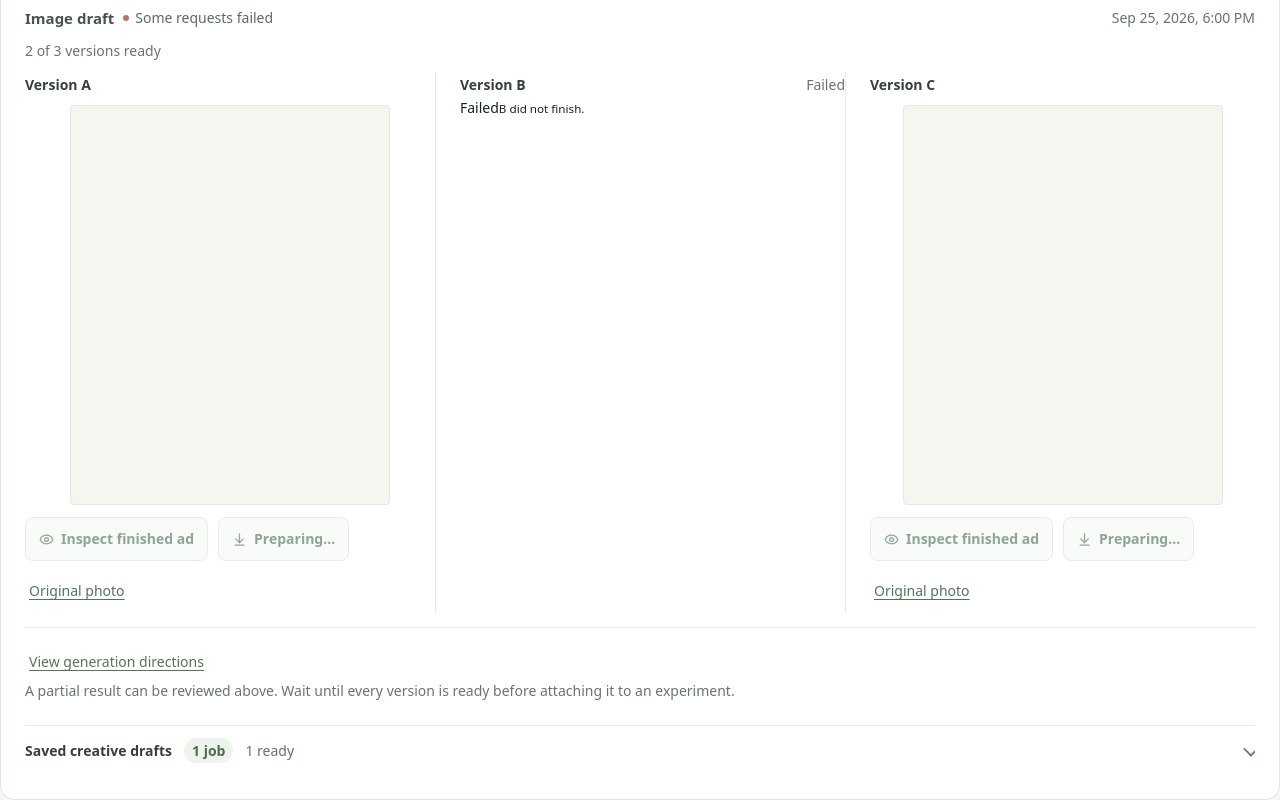
creative composer › navigates only the clicked job’s ready A and C outputs, skipping failed B and enforcing bounds
(page scrolled)
Click the button with aria-label "Inspect original photo for Version C": (922, 591) [870,569,974,613]
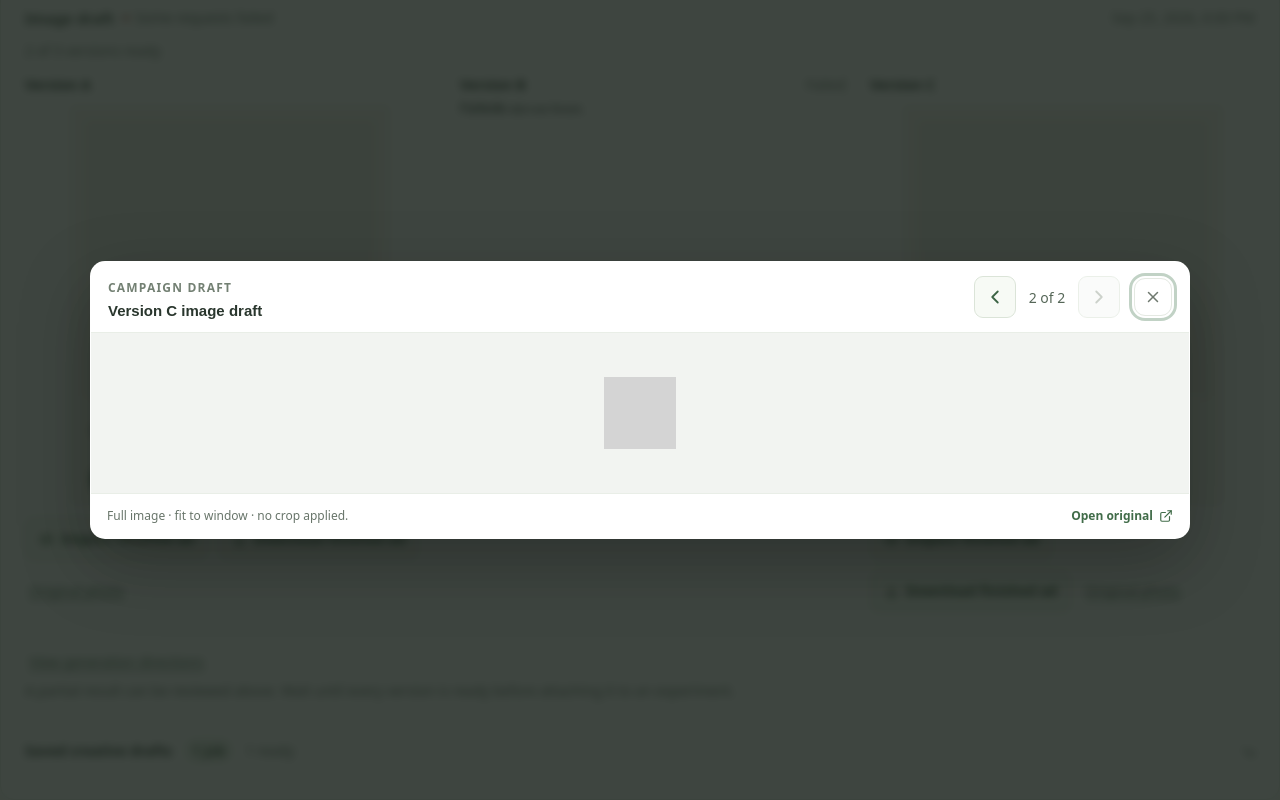
Expected: the text "2 of 2" is shown, [1029,288,1065,306]
Expected: the button named "Previous version" is enabled
Expected: the button named "Next version" is disabled, [1078,276,1120,318]
Click the button named "Previous version": (995, 297) [974,276,1016,318]
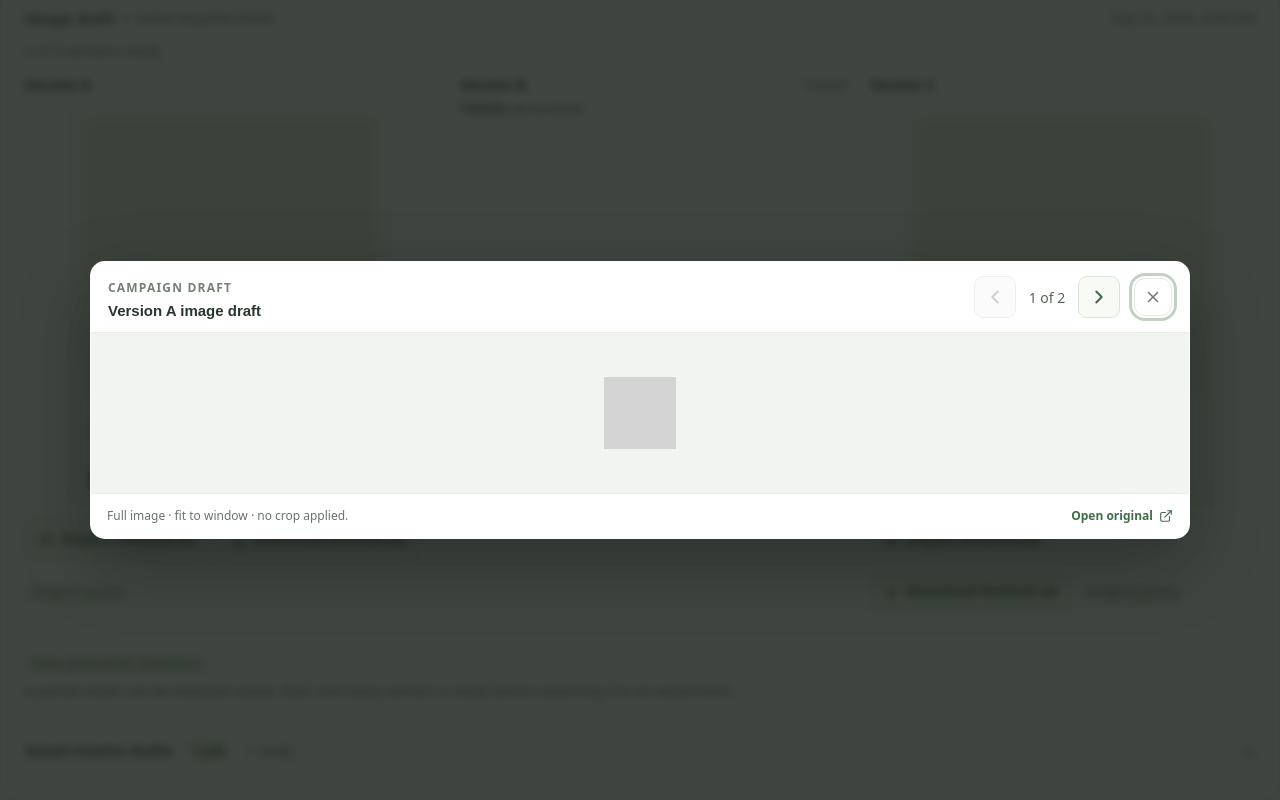
Expected: the heading "Version A image draft" is shown, [108,302,261,319]
Expected: the text "1 of 2" is shown, [1029,288,1065,306]
Click the button named "Next version": (1099, 297) [1078,276,1120,318]
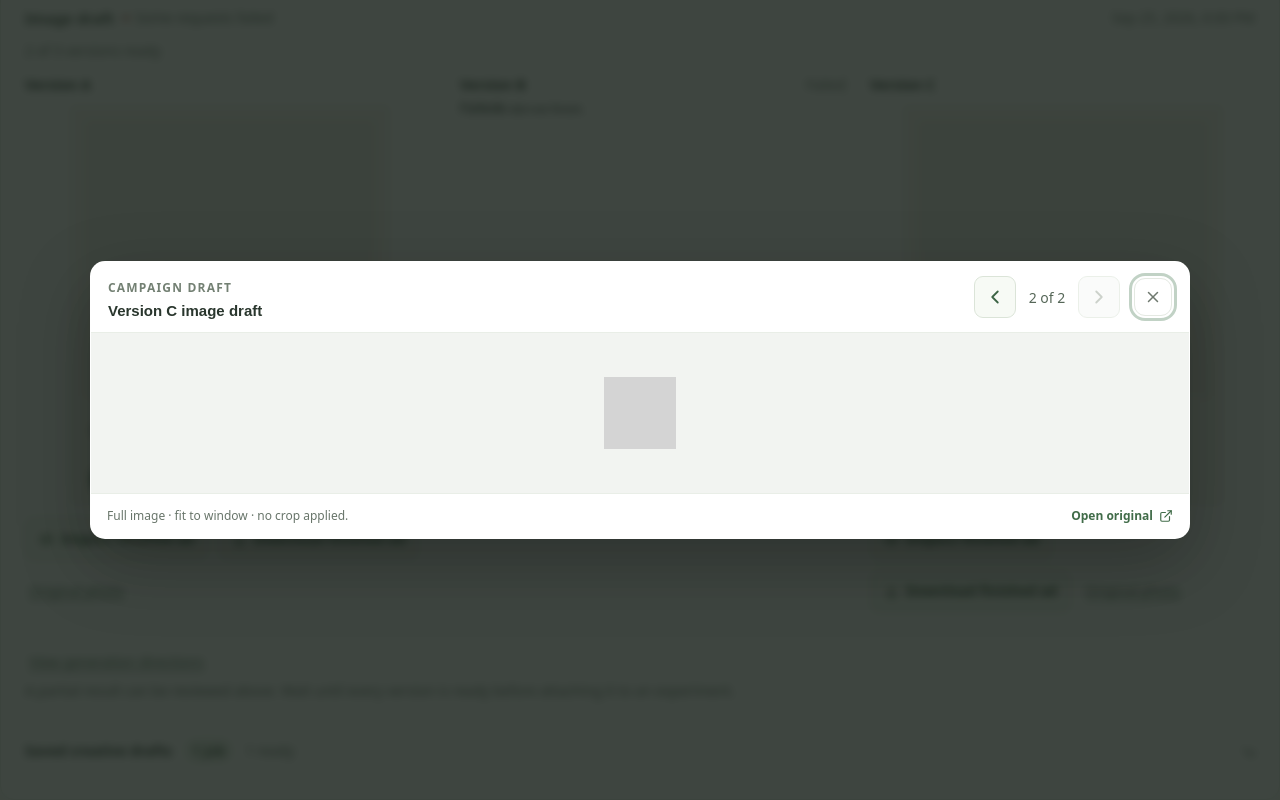
Expected: the heading "Version C image draft" is shown, [108,302,262,319]
